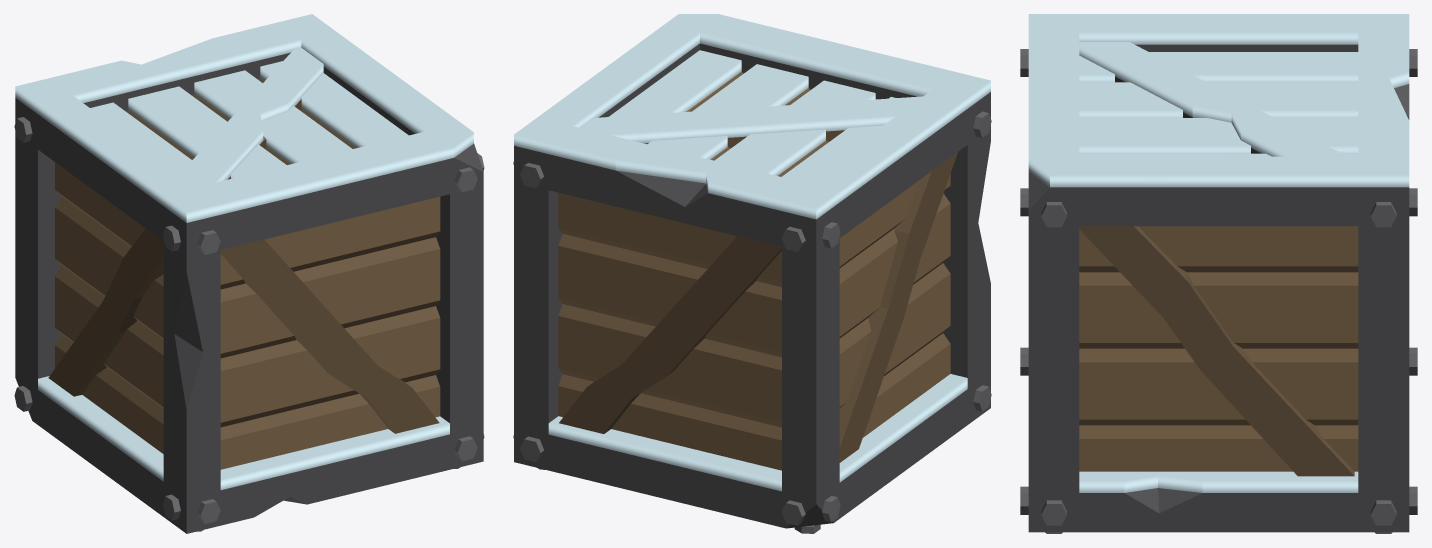
Rendered from SM_Prop_Crate_01_Snow.glb.
3 views of the same model, side by side, from view 1: azimuth 30°, elevation 25°; view 2: azimuth 150°, elevation 25°; view 3: azimuth 270°, elevation 25° (orthographic). The views are drawn at different scales.
Parts seen in each view (by area): view 1: SM_Prop_Crate_01_Snow; view 2: SM_Prop_Crate_01_Snow; view 3: SM_Prop_Crate_01_Snow.
Boxes of the visible parts, left/top/right/bottom form: SM_Prop_Crate_01_Snow: left=14, top=14, right=484, bottom=533; SM_Prop_Crate_01_Snow: left=513, top=14, right=991, bottom=533; SM_Prop_Crate_01_Snow: left=1020, top=14, right=1417, bottom=533.
Size of the model in its own units: 0.7997 by 0.8104 by 0.7993.
1 material, 1 textured.
